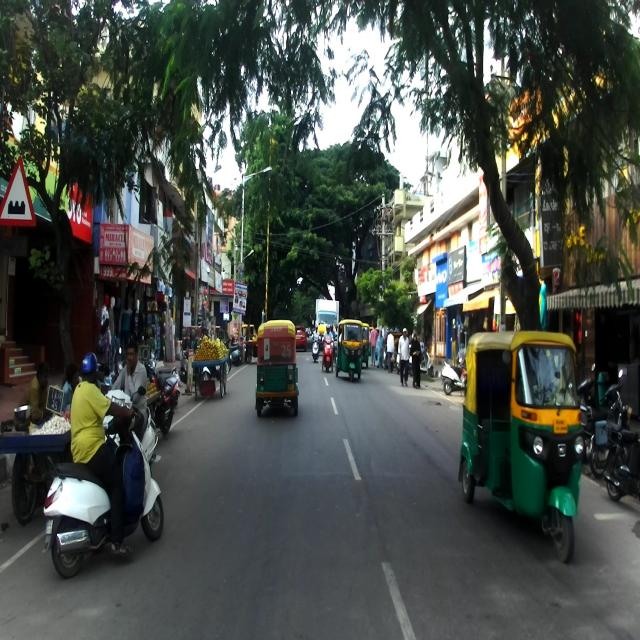autorickshaw: (458, 332, 585, 563), (335, 319, 364, 385)
motorcycle: (147, 375, 181, 440)
scooter: (44, 405, 165, 579), (96, 370, 161, 470)
